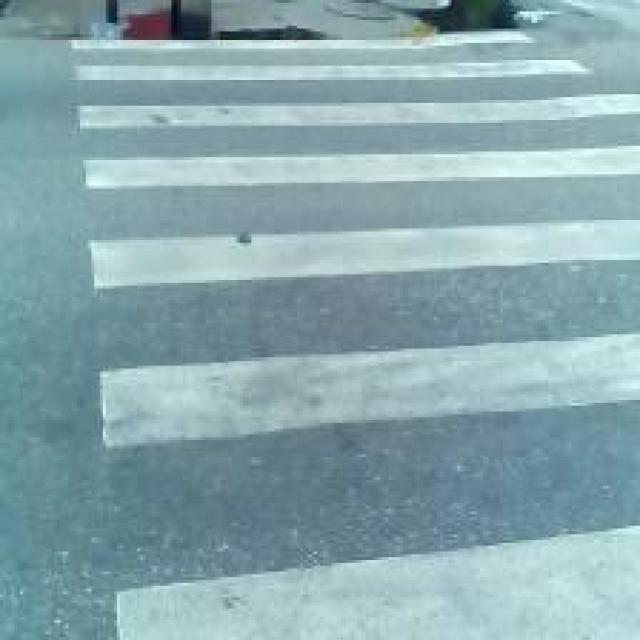zebra: (70, 27, 640, 640)
